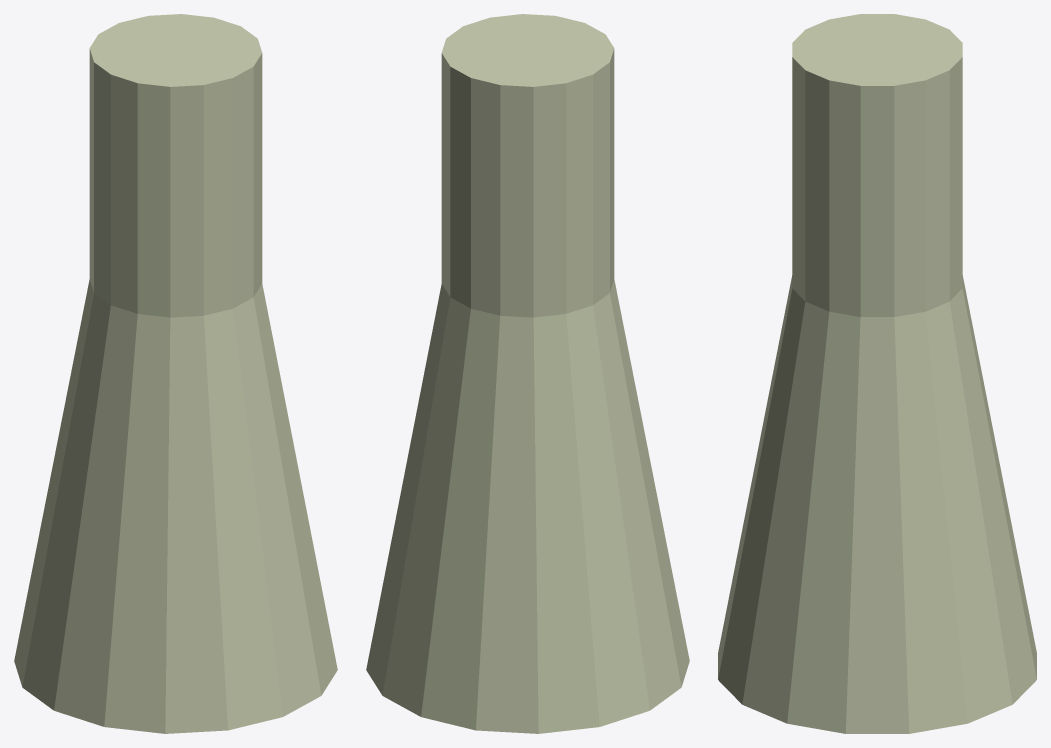
Rendered from alnair_engine_s0p5_1_collider.obj.
The picture shows the model from 3 angles, left to right: view 1: azimuth 30°, elevation 25°; view 2: azimuth 150°, elevation 25°; view 3: azimuth 270°, elevation 25°; orthographic projection.
Parts seen in each view (by area): view 1: collider1, collider2; view 2: collider1, collider2; view 3: collider1, collider2.
Boxes of the visible parts, x1,y1,x2,y2 form: collider1: (14,279,337,733); collider2: (89,14,262,317); collider1: (366,279,689,733); collider2: (441,14,614,317); collider1: (718,275,1036,733); collider2: (792,14,962,316).
Bounding box in the file's own units: 0.9375 × 2 × 0.9375.
